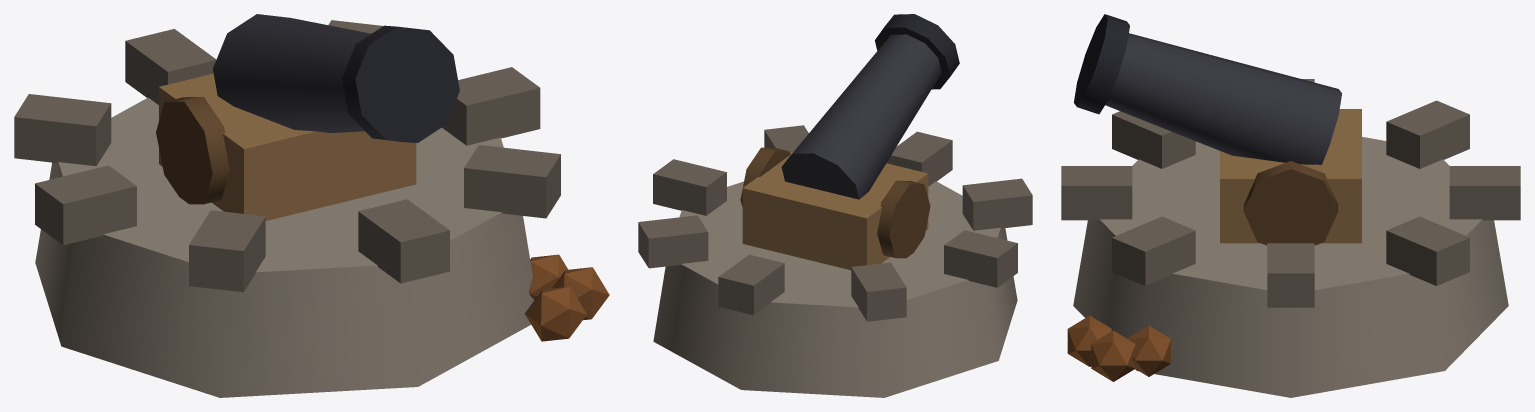
Rendered from goblin-level1.glb.
The picture shows the model from 3 angles, left to right: view 1: azimuth 30°, elevation 25°; view 2: azimuth 150°, elevation 25°; view 3: azimuth 270°, elevation 25°; orthographic projection. The views are drawn at different scales.
Parts seen in each view (by area): view 1: object 1, turret, object 6, object 7, object 3, object 4, object 2, object 5, object 8, object 12, object 11, object 13; view 2: object 1, turret, object 6, object 2, object 9, object 5, object 8, object 7, object 4, object 3; view 3: object 1, turret, object 3, object 9, object 7, object 4, object 8, object 2, object 5, object 11, object 13, object 12.
Part boxes in pixels (x1=…): object 1: x1=35, y1=97, x2=534, y2=397; turret: x1=156, y1=14, x2=459, y2=220; object 6: x1=35, y1=165, x2=136, y2=245; object 7: x1=14, y1=94, x2=111, y2=166; object 3: x1=464, y1=145, x2=560, y2=218; object 4: x1=358, y1=199, x2=449, y2=283; object 2: x1=442, y1=67, x2=540, y2=145; object 5: x1=189, y1=210, x2=265, y2=292; object 8: x1=125, y1=29, x2=216, y2=104; object 12: x1=524, y1=286, x2=586, y2=341; object 11: x1=552, y1=267, x2=609, y2=320; object 13: x1=529, y1=254, x2=567, y2=299; object 1: x1=653, y1=181, x2=1017, y2=397; turret: x1=740, y1=14, x2=959, y2=270; object 6: x1=944, y1=230, x2=1017, y2=287; object 2: x1=653, y1=159, x2=726, y2=215; object 9: x1=638, y1=215, x2=708, y2=268; object 5: x1=962, y1=178, x2=1032, y2=230; object 8: x1=718, y1=254, x2=784, y2=315; object 7: x1=851, y1=262, x2=906, y2=321; object 4: x1=886, y1=131, x2=952, y2=186; object 3: x1=764, y1=125, x2=808, y2=152; object 1: x1=1073, y1=137, x2=1508, y2=397; turret: x1=1074, y1=14, x2=1361, y2=245; object 3: x1=1112, y1=216, x2=1195, y2=285; object 9: x1=1386, y1=216, x2=1469, y2=285; object 7: x1=1386, y1=100, x2=1469, y2=168; object 4: x1=1061, y1=166, x2=1132, y2=220; object 8: x1=1449, y1=166, x2=1520, y2=220; object 2: x1=1267, y1=243, x2=1314, y2=307; object 5: x1=1112, y1=111, x2=1195, y2=168; object 11: x1=1091, y1=330, x2=1135, y2=381; object 13: x1=1127, y1=325, x2=1170, y2=376; object 12: x1=1067, y1=315, x2=1111, y2=366.
Size of the model in its own units: 1.94 by 1.34 by 1.94.
